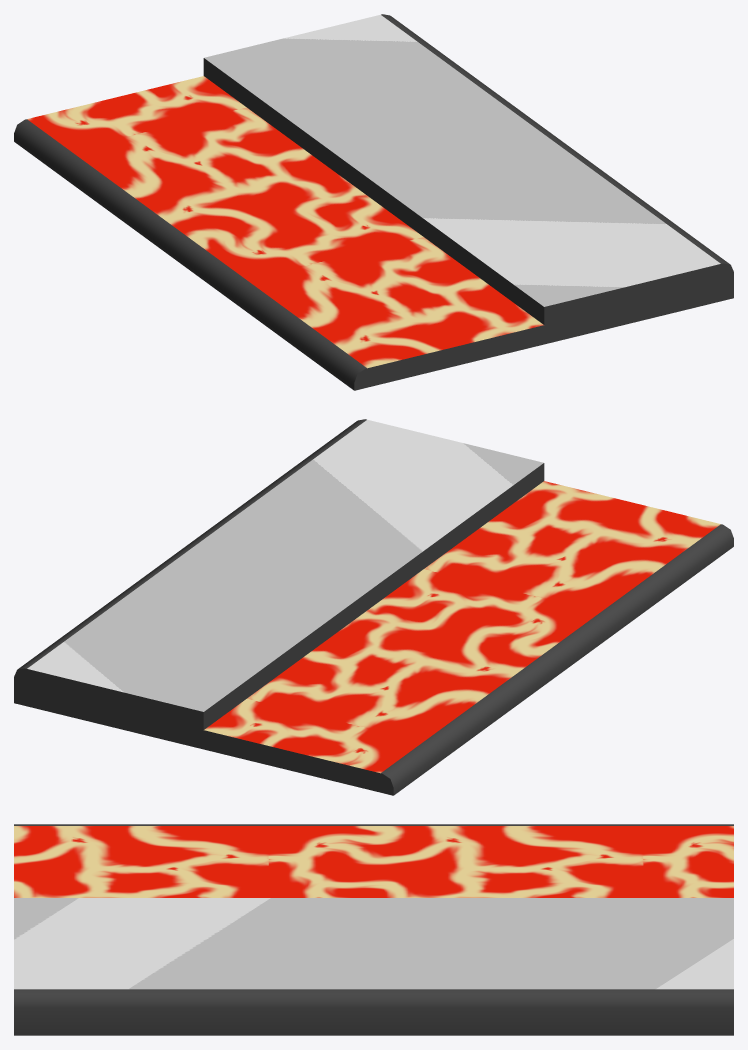
Rendered from platform.lava.fbx.
3 renders of one model, top to bottom at view 1: azimuth 30°, elevation 25°; view 2: azimuth 150°, elevation 25°; view 3: azimuth 270°, elevation 25°, orthographic. The views are drawn at different scales.
Parts seen in each view (by area): view 1: main.001; view 2: main.001; view 3: main.001.
Boxes of the visible parts, x1,y1,x2,y2 form: main.001: (14, 14, 733, 390); main.001: (14, 419, 733, 795); main.001: (14, 824, 733, 1035).
Size of the model in its own units: 481 by 45.44 by 747.
